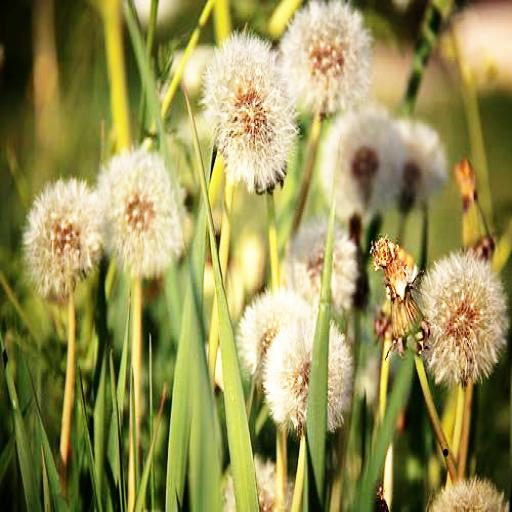dandelion: (198, 30, 290, 198), (96, 152, 188, 278), (422, 249, 511, 378), (264, 309, 353, 431), (284, 3, 370, 114), (22, 177, 100, 295)
